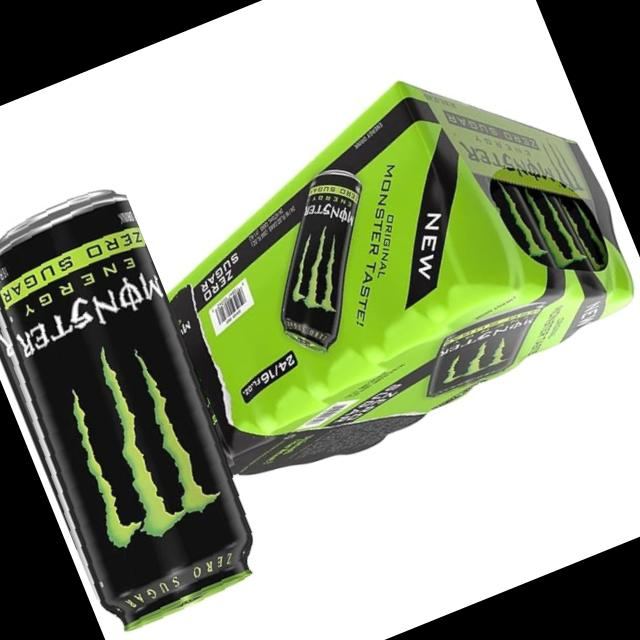Cans: (0, 159, 277, 640), (471, 346, 640, 569)
